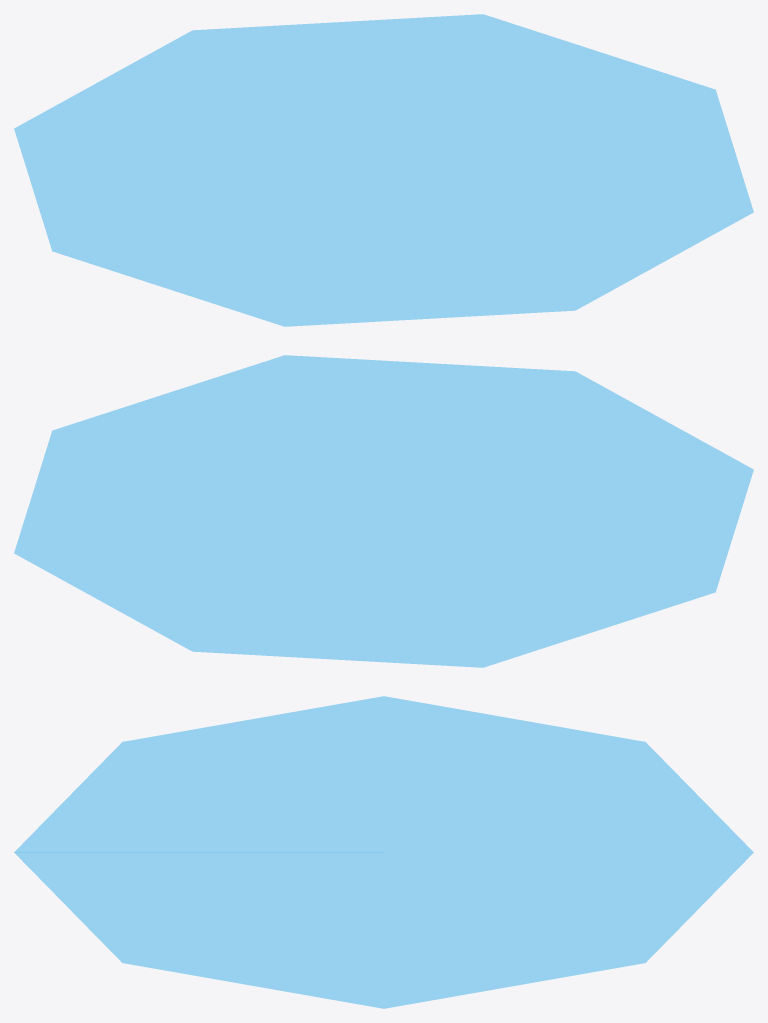
Rendered from scono_exshot_core.fbx.
3 renders of one model, top to bottom at view 1: azimuth 30°, elevation 25°; view 2: azimuth 150°, elevation 25°; view 3: azimuth 270°, elevation 25°, orthographic. The views are drawn at different scales.
Visible parts, largest first — view 1: scono_exshot_core; view 2: scono_exshot_core; view 3: scono_exshot_core.
Boxes of the visible parts, x1=… form: scono_exshot_core: x1=14, y1=14, x2=753, y2=326; scono_exshot_core: x1=14, y1=355, x2=753, y2=667; scono_exshot_core: x1=14, y1=696, x2=753, y2=1008.
Bounding box in the file's own units: 24.99 × 0 × 24.99.
